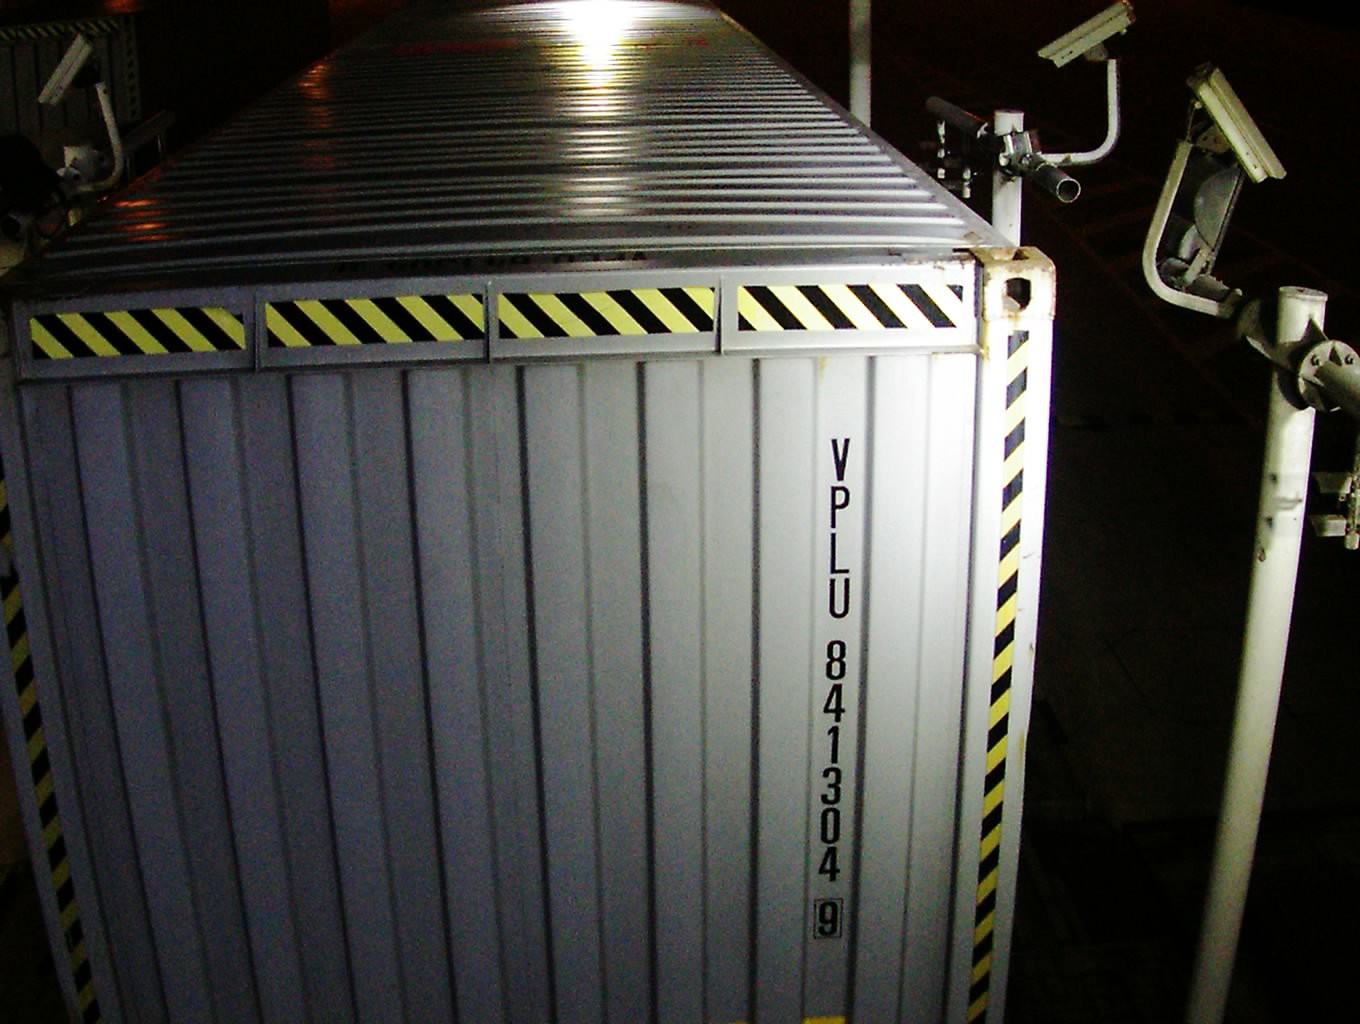words: (810, 430, 858, 955)
